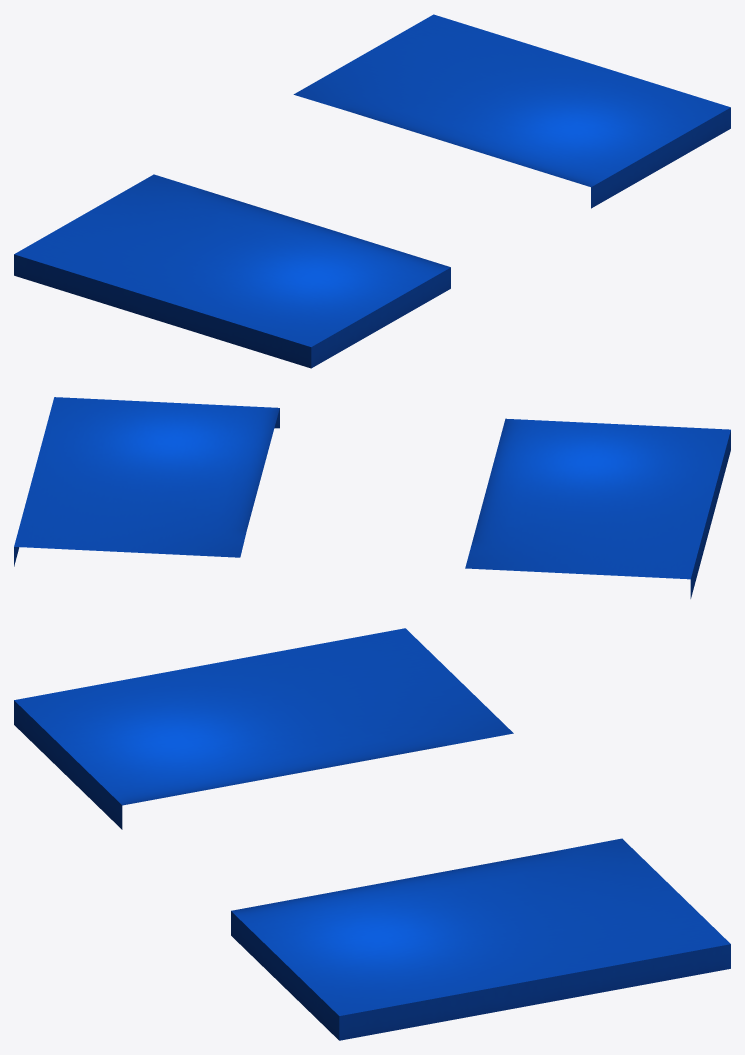
File: templewater.glb
3 views of the same model, one above another, from view 1: azimuth 30°, elevation 25°; view 2: azimuth 150°, elevation 25°; view 3: azimuth 270°, elevation 25° (orthographic). The views are drawn at different scales.
Parts seen in each view (by area): view 1: Merge_pire_pit_001__torch_003__torch_002__torch_000__MAZE_s_; view 2: Merge_pire_pit_001__torch_003__torch_002__torch_000__MAZE_s_; view 3: Merge_pire_pit_001__torch_003__torch_002__torch_000__MAZE_s_.
Boxes of the visible parts, <box> form: Merge_pire_pit_001__torch_003__torch_002__torch_000__MAZE_s_: <box>14,14,730,368</box>; Merge_pire_pit_001__torch_003__torch_002__torch_000__MAZE_s_: <box>14,397,730,598</box>; Merge_pire_pit_001__torch_003__torch_002__torch_000__MAZE_s_: <box>14,628,730,1040</box>.
Size of the model in its own units: 23.64 by 0.7 by 18.47.
Materials: 1 (1 with a texture image).
